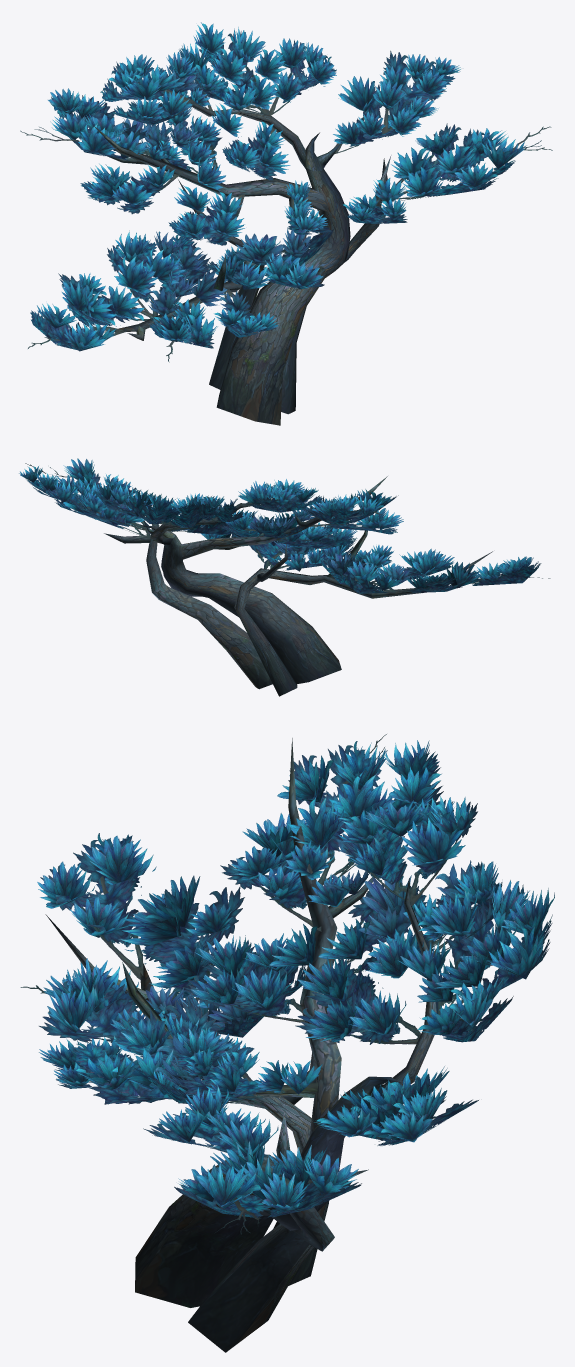
Rendered from fb_qingqs_zw_02.FBX.
3 renders of one model, top to bottom at view 1: azimuth 30°, elevation 25°; view 2: azimuth 150°, elevation 25°; view 3: azimuth 270°, elevation 25°, orthographic. The views are drawn at different scales.
Parts seen in each view (by area): view 1: fb_qingqs_zw_02_a, fb_qingqs_zw_02_b; view 2: fb_qingqs_zw_02_a, fb_qingqs_zw_02_b; view 3: fb_qingqs_zw_02_a, fb_qingqs_zw_02_b.
Boxes of the visible parts, bbox=[...] form: fb_qingqs_zw_02_a: bbox=[20, 22, 552, 362]; fb_qingqs_zw_02_b: bbox=[93, 102, 391, 425]; fb_qingqs_zw_02_a: bbox=[19, 458, 550, 593]; fb_qingqs_zw_02_b: bbox=[104, 476, 492, 696]; fb_qingqs_zw_02_a: bbox=[20, 734, 554, 1234]; fb_qingqs_zw_02_b: bbox=[45, 738, 436, 1352].
Bounding box in the file's own units: 1864 × 961 × 974.
